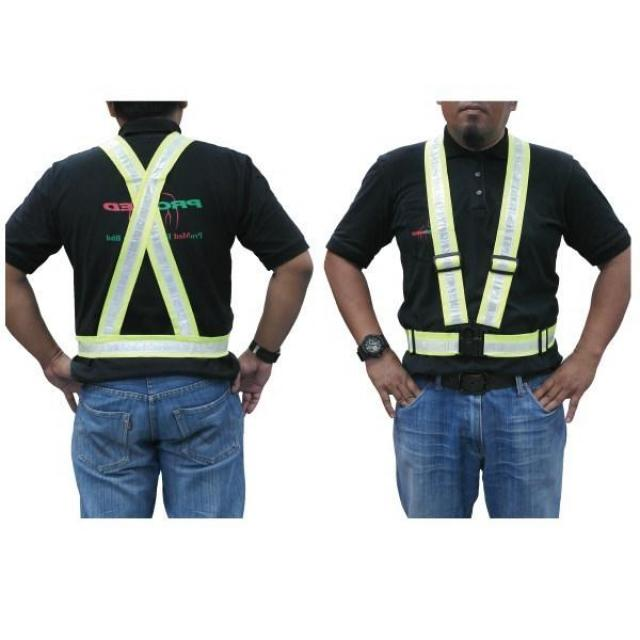Reflective-Jacket: (380, 130, 581, 375), (59, 130, 261, 365)
